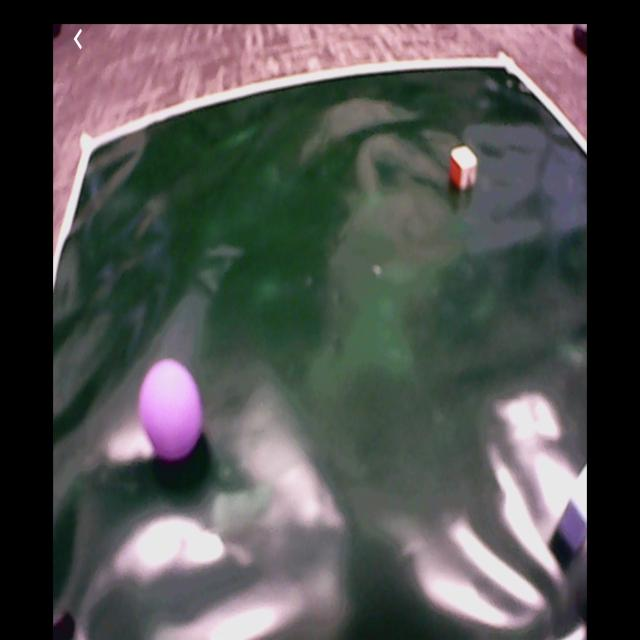ball: (140, 360, 203, 457)
